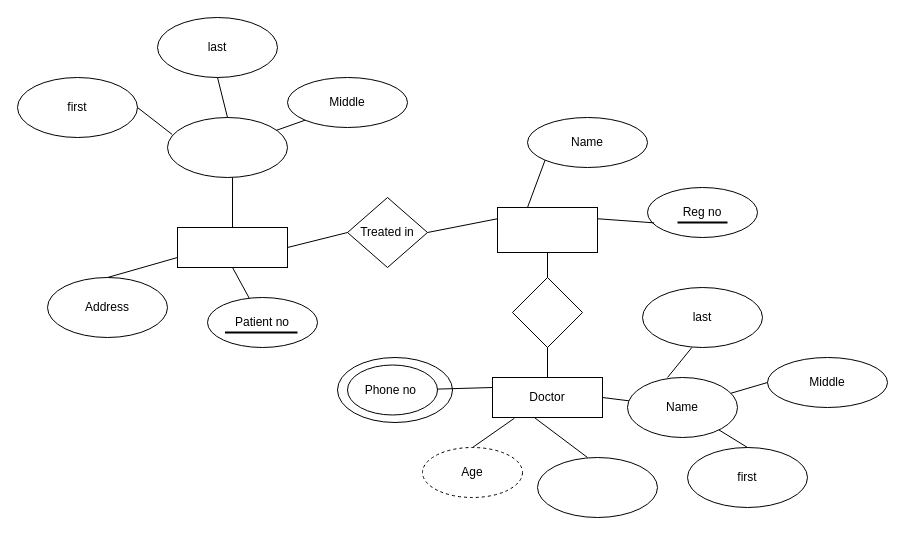
Image size: 905x535. Some labels were removed from this diagram. Here are the shapes that lost their labels. From the top down, the centre of each, then its label:
the point at 227,147: Patient name
the point at 232,247: Patient
the point at 547,229: Hospital
the point at 547,312: Has
the point at 597,487: Date of birth
